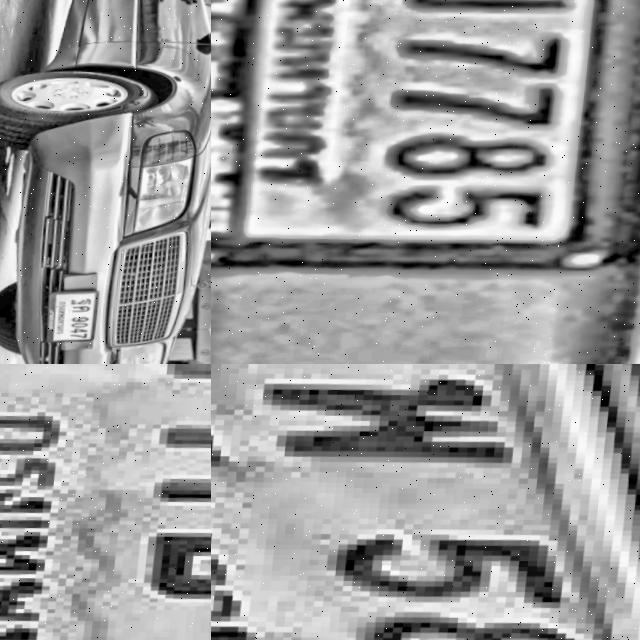license-plate: (211, 0, 640, 283), (211, 364, 640, 640), (0, 364, 211, 640), (45, 287, 108, 346)
